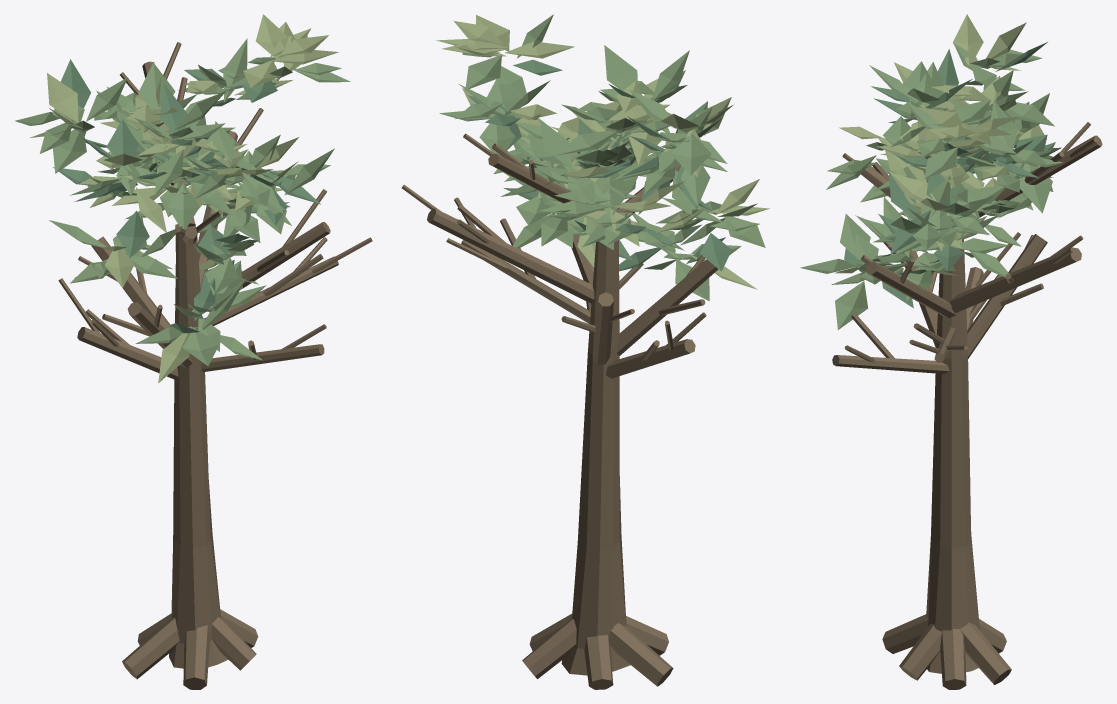
The model's file is coastal_tree.glb.
3 views of the same model, side by side, from view 1: azimuth 30°, elevation 25°; view 2: azimuth 150°, elevation 25°; view 3: azimuth 270°, elevation 25° (orthographic). The views are drawn at different scales.
Visible parts, largest first — view 1: coastal_tree LOD0; view 2: coastal_tree LOD0; view 3: coastal_tree LOD0.
Part boxes in pixels (x1,y1,x2,y2): coastal_tree LOD0: [15, 14, 372, 689]; coastal_tree LOD0: [401, 14, 769, 689]; coastal_tree LOD0: [800, 14, 1102, 689].
Size of what is drawn, in the model's own units: 4.91 by 9.11 by 4.17.
